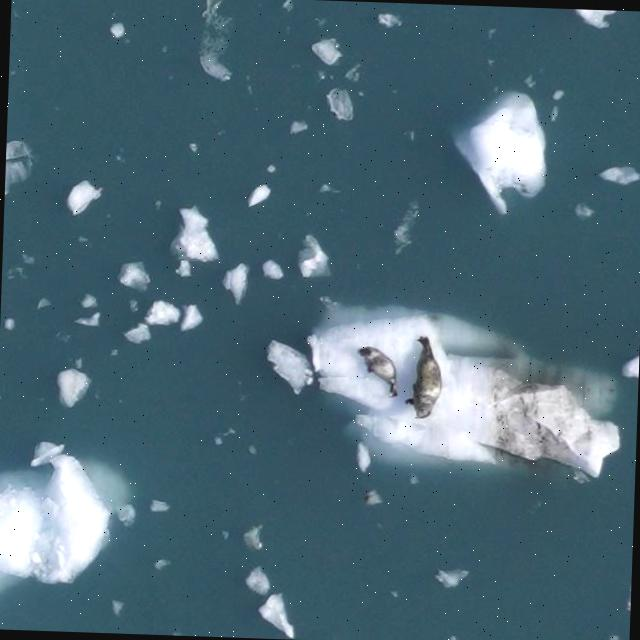seal: (351, 336, 411, 398), (406, 333, 441, 417)
